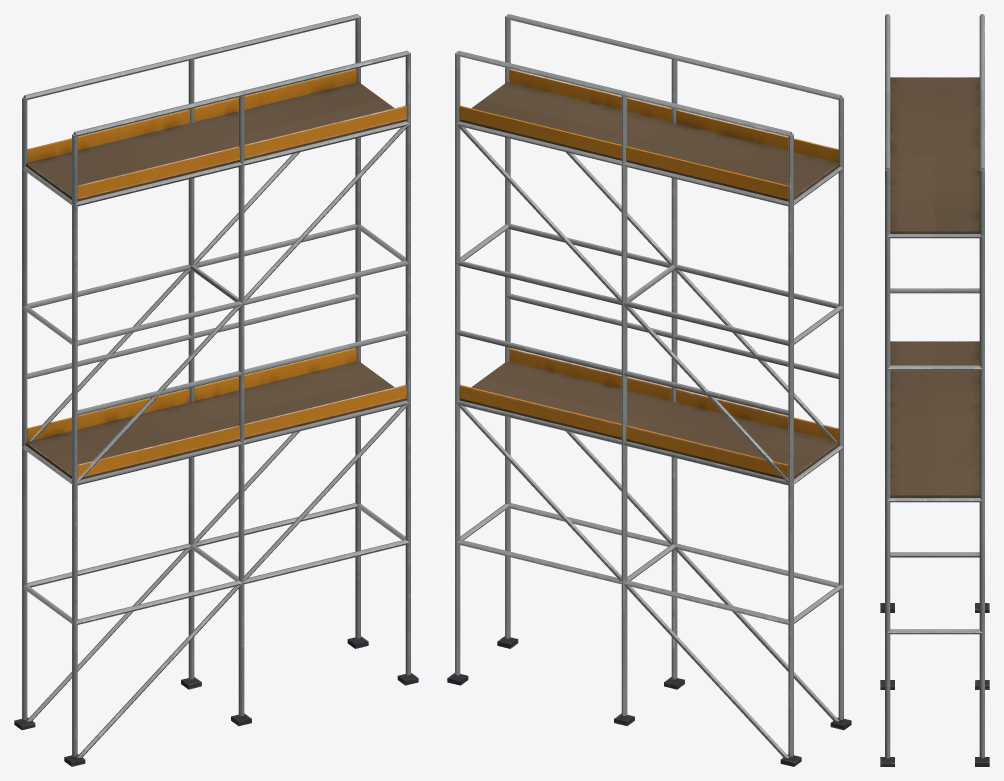
Rendered from scaffold-S.glb.
3 views of the same model, side by side, from view 1: azimuth 30°, elevation 25°; view 2: azimuth 150°, elevation 25°; view 3: azimuth 270°, elevation 25° (orthographic). The views are drawn at different scales.
Visible parts, largest first — view 1: scaffold-S; view 2: scaffold-S; view 3: scaffold-S.
Boxes of the visible parts, left/top/right/bottom form: scaffold-S: left=14, top=14, right=418, bottom=766; scaffold-S: left=447, top=14, right=851, bottom=766; scaffold-S: left=880, top=14, right=989, bottom=766.
Size of the model in its own units: 5.2 by 9.05 by 1.5.
Materials: 1 (1 with a texture image).
